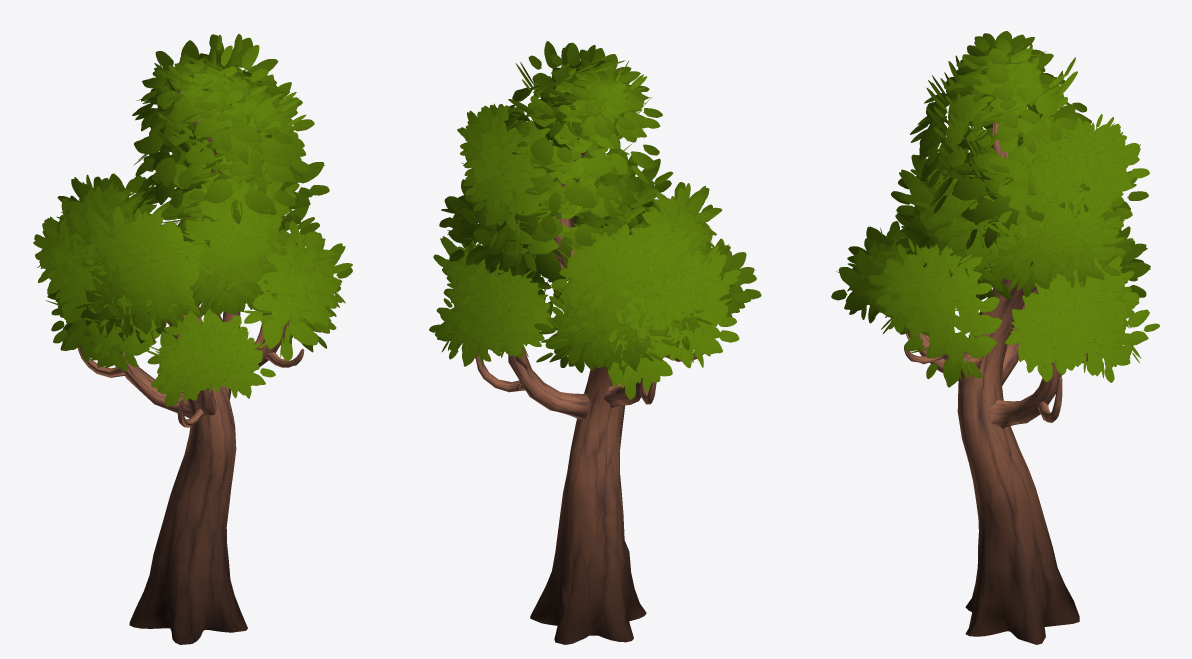
The picture shows the model from 3 angles, left to right: view 1: azimuth 30°, elevation 25°; view 2: azimuth 150°, elevation 25°; view 3: azimuth 270°, elevation 25°; orthographic projection. The views are drawn at different scales.
Parts seen in each view (by area): view 1: CommonTree_2; view 2: CommonTree_2; view 3: CommonTree_2.
Boxes of the visible parts, <box> form: CommonTree_2: <box>33,34,352,644</box>; CommonTree_2: <box>429,41,761,644</box>; CommonTree_2: <box>831,31,1159,644</box>.
Size of the model in its own units: 4.46 by 7.64 by 4.28.
2 materials, 2 textured.
